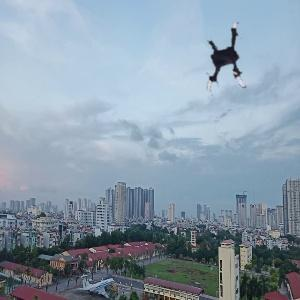drone: (191, 23, 272, 104)
